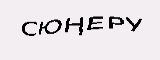Б: (31, 14, 49, 39)
Ж: (113, 15, 132, 37)
Л: (46, 15, 69, 38)
Щ: (86, 11, 115, 35)
Э: (64, 13, 86, 35)
